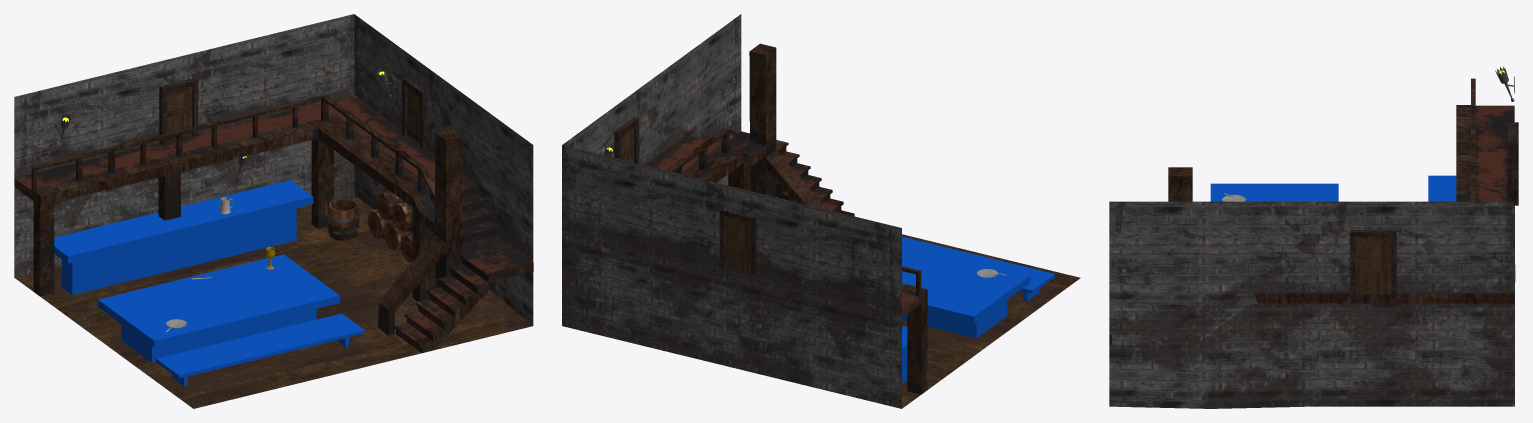
Rendered from Bar2Test3.fbx.
3 renders of one model, left to right at view 1: azimuth 30°, elevation 25°; view 2: azimuth 150°, elevation 25°; view 3: azimuth 270°, elevation 25°, orthographic. The views are drawn at different scales.
Parts seen in each view (by area): view 1: floor_walls, stairs, table, door, door003, Barrel005, Barrel004, Barrel003; view 2: floor_walls, stairs, table, door, door003; view 3: floor_walls, stairs, table, door003, door.
Boxes of the visible parts, x1,y1,x2,y2 form: floor_walls: [14, 14, 533, 408]; stairs: [14, 94, 533, 353]; table: [54, 180, 364, 386]; door: [159, 78, 198, 144]; door003: [402, 77, 426, 149]; Barrel005: [327, 199, 359, 240]; Barrel004: [392, 201, 412, 231]; Barrel003: [376, 189, 402, 219]; floor_walls: [562, 14, 1080, 408]; stairs: [645, 43, 927, 394]; table: [902, 236, 1054, 383]; door: [719, 209, 756, 274]; door003: [614, 117, 639, 163]; floor_walls: [1109, 201, 1514, 408]; stairs: [1109, 78, 1514, 344]; table: [1210, 175, 1456, 201]; door003: [1350, 230, 1396, 295]; door: [1507, 122, 1518, 205].
Bounding box in the file's own units: 1023 × 519 × 932.
